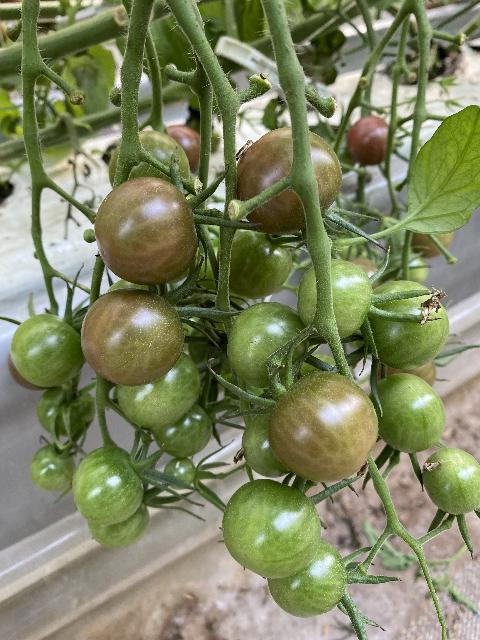l_green: (267, 371, 379, 483), (238, 127, 344, 234), (94, 178, 199, 286), (82, 289, 184, 386), (223, 479, 320, 579), (365, 280, 448, 369), (225, 302, 308, 388), (117, 352, 199, 430), (266, 540, 346, 618), (371, 374, 447, 453), (298, 260, 373, 339), (72, 446, 142, 524), (11, 313, 85, 386), (110, 131, 189, 191), (228, 229, 292, 300), (423, 447, 479, 515), (240, 407, 290, 478), (36, 384, 95, 438), (153, 405, 212, 457), (90, 500, 150, 545), (31, 446, 76, 490), (165, 457, 195, 491)
